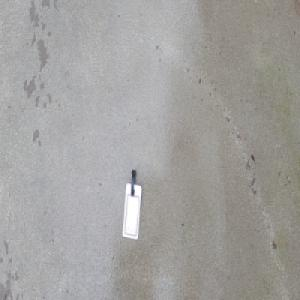LuggageTag: (121, 167, 142, 239)
